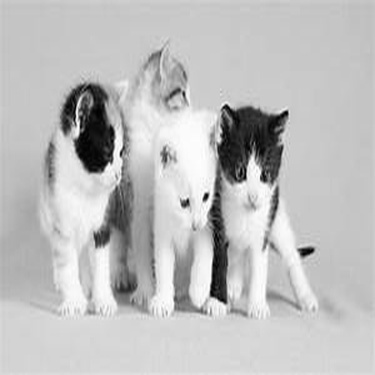cat: (34, 76, 128, 321), (218, 101, 322, 319), (107, 38, 193, 292), (149, 110, 214, 317)
